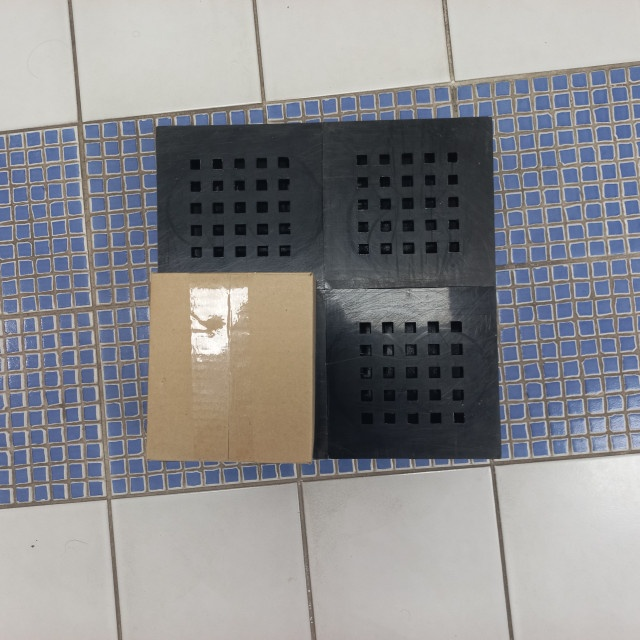box: (146, 269, 316, 461)
pallet: (155, 110, 503, 461)
